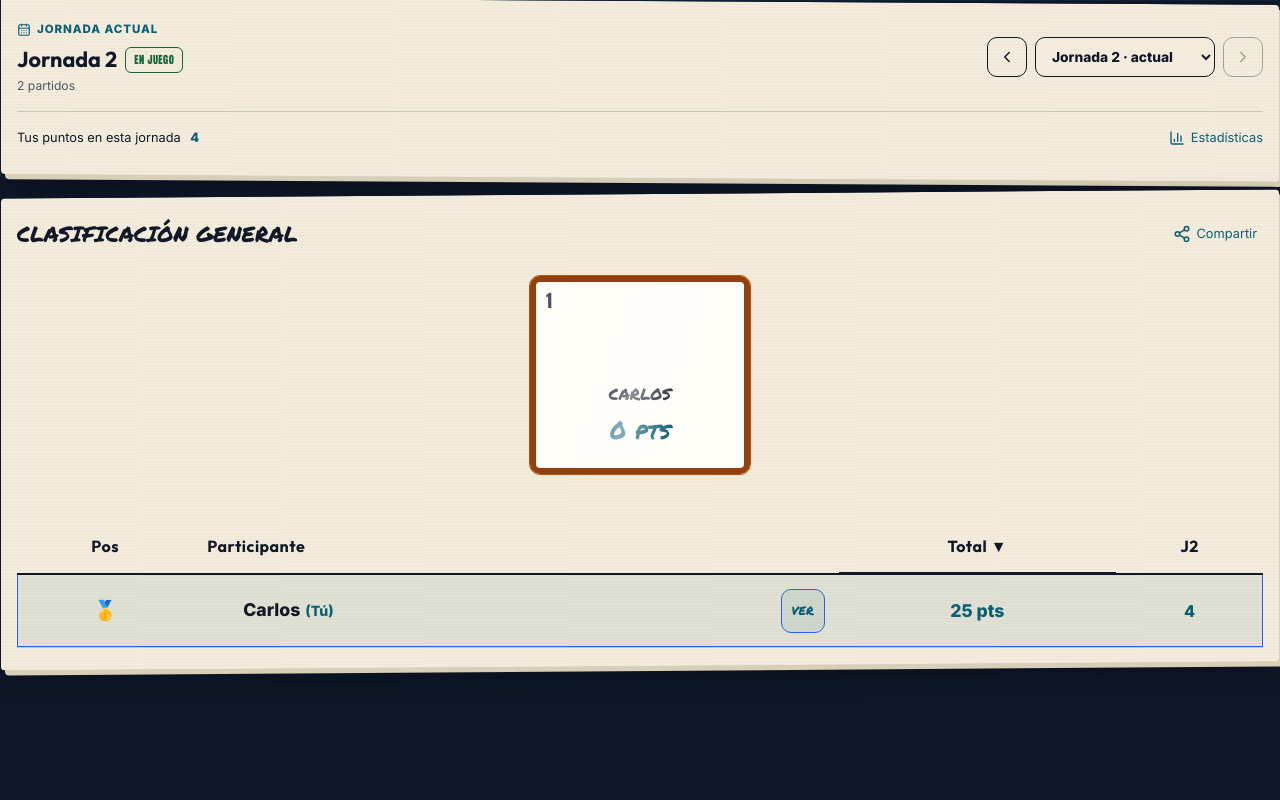
Test: Leaderboard Component › muestra la jornada actual y permite navegar por las jornadas
expect the text "Jornada actual" is shown: met, box [17,21,158,39]
expect the cell "4" is shown: met, box [1116,574,1263,647]
Select "Jornada 1" in the dropdown named "Seleccionar jornada": x=1125, y=57 [1035,37,1215,77]
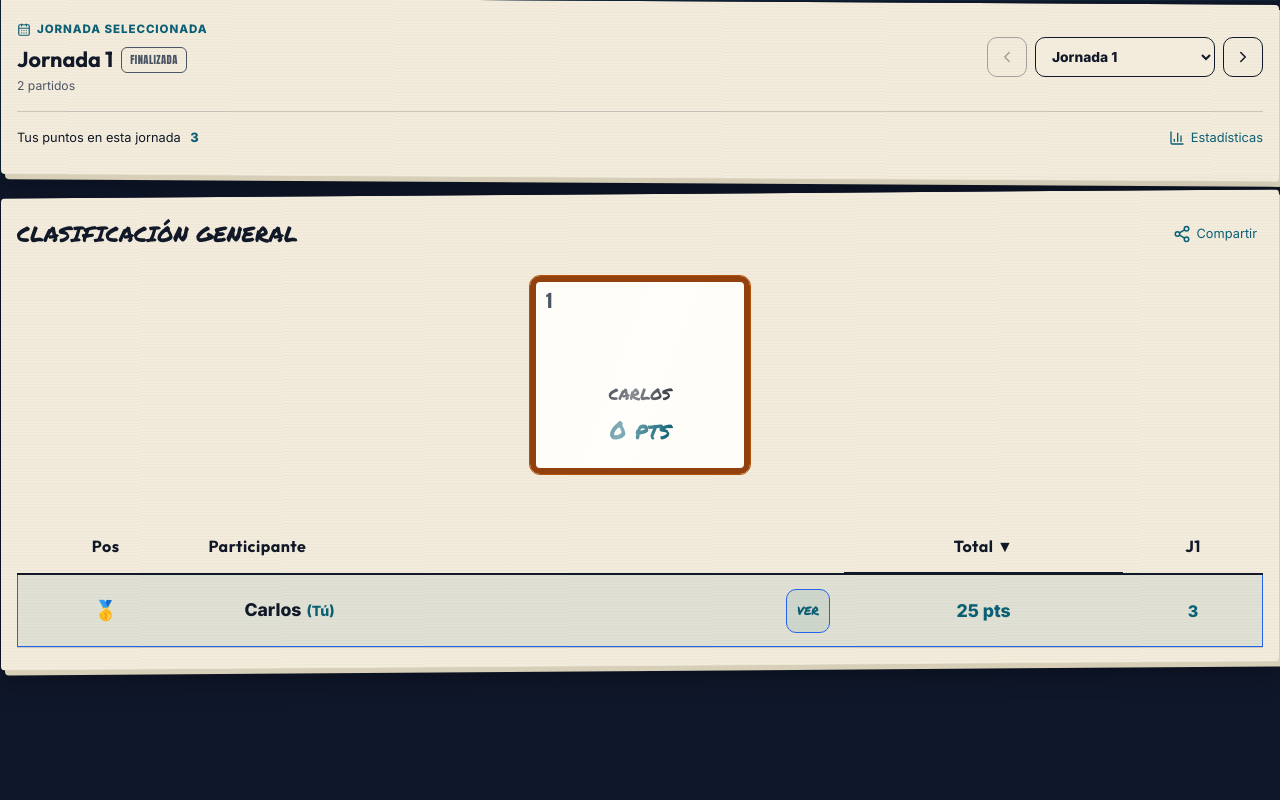
expect the cell "3" is shown: met, box [1123,574,1263,647]
expect the text "Finalizada" is shown: met, box [121,47,187,73]
expect the button named "Jornada anterior" is disabled: met, box [987,37,1027,77]
